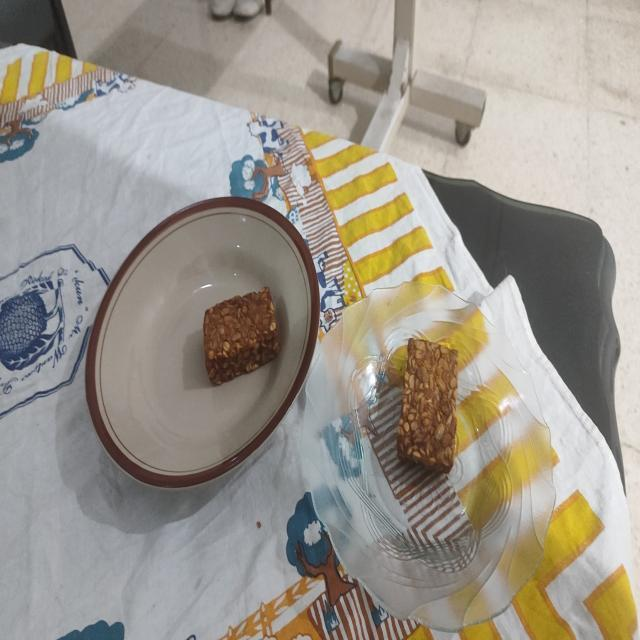tempe_goreng: (397, 338, 458, 472), (203, 286, 280, 384)
